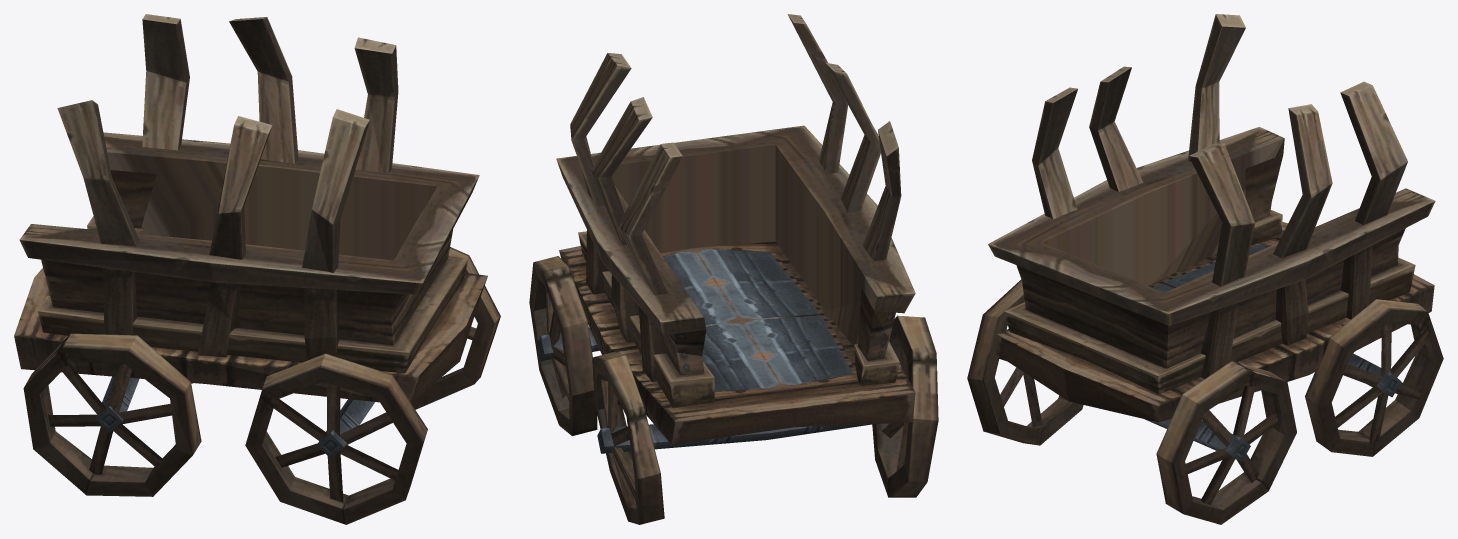
File: building_caravan03.fbx
3 views of the same model, side by side, from view 1: azimuth 30°, elevation 25°; view 2: azimuth 150°, elevation 25°; view 3: azimuth 270°, elevation 25° (orthographic). The views are drawn at different scales.
Parts seen in each view (by area): view 1: obj1.004; view 2: obj1.004; view 3: obj1.004.
Boxes of the visible parts, x1,y1,x2,y2 form: obj1.004: [14, 14, 500, 524]; obj1.004: [529, 14, 938, 524]; obj1.004: [967, 14, 1443, 524].
Bounding box in the file's own units: 4.32 × 3.62 × 4.3.
